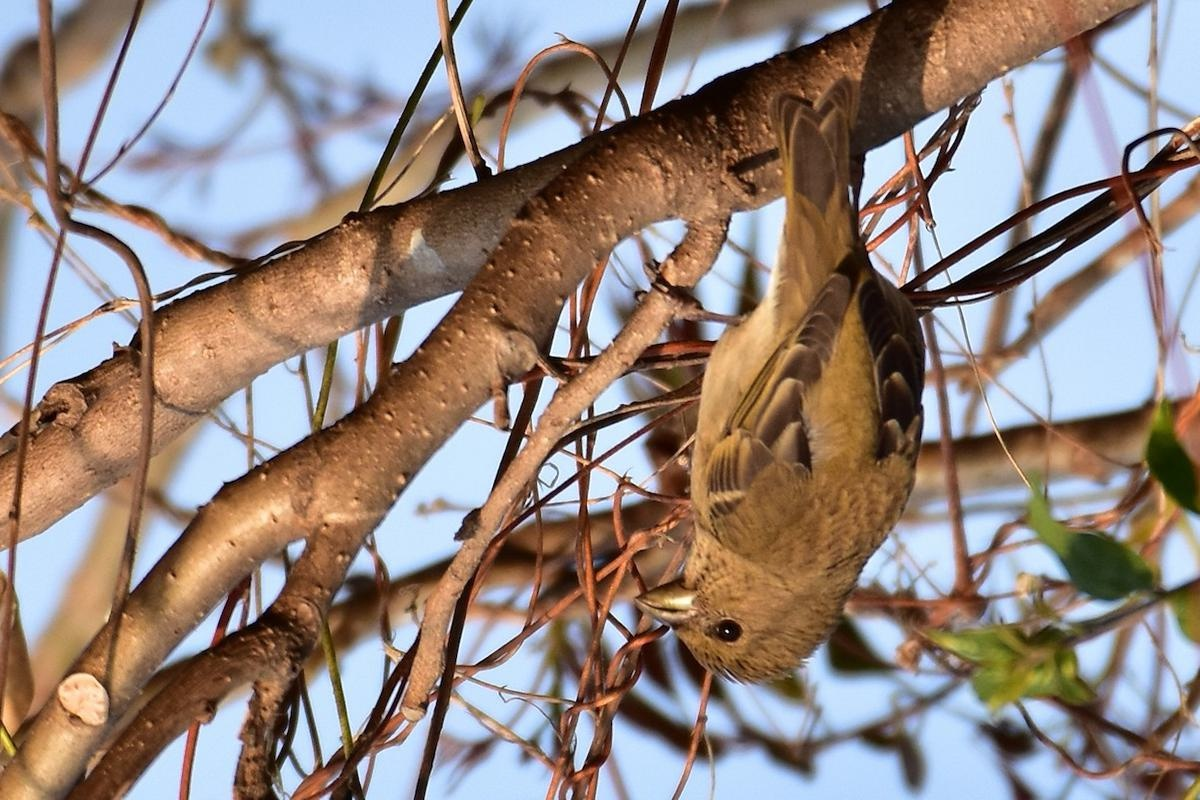rosefinch: (633, 132, 911, 692)
